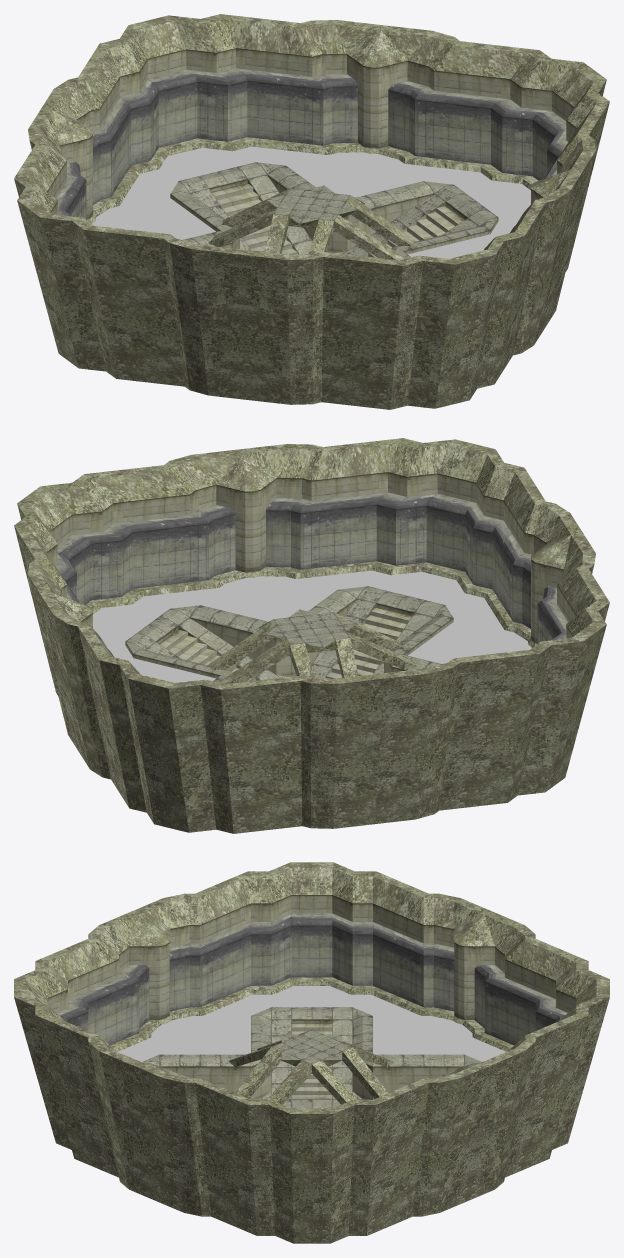
File: Dragonfly_Bowl.fbx
The picture shows the model from 3 angles, top to bottom: view 1: azimuth 30°, elevation 25°; view 2: azimuth 150°, elevation 25°; view 3: azimuth 270°, elevation 25°; orthographic projection. The views are drawn at different scales.
Parts seen in each view (by area): view 1: Cube.004; view 2: Cube.004; view 3: Cube.004.
Boxes of the visible parts, x1,y1,x2,y2 form: Cube.004: [14, 14, 609, 409]; Cube.004: [14, 438, 609, 833]; Cube.004: [14, 862, 609, 1243].
Size of the model in its own units: 58.63 by 16 by 58.63.
